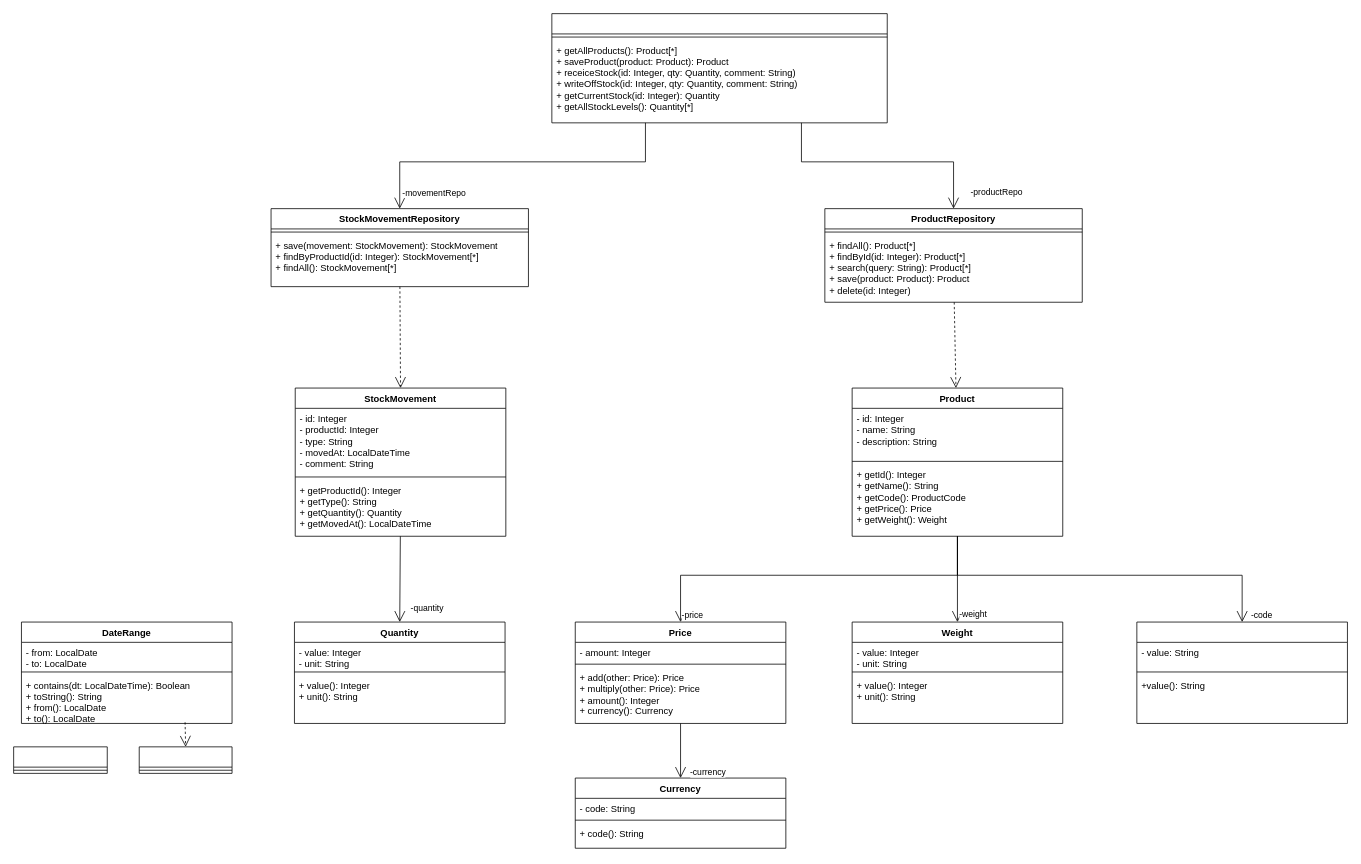
Some shapes in this 1361 by 864 pixel diagram are drawn without their labels. Each missing label, with the box of its shape:
LocalDate: (13, 746, 107, 773)
LocalDateTime: (138, 746, 232, 773)
ProductCode: (1136, 621, 1347, 723)
WarehouseService: (551, 13, 887, 123)
